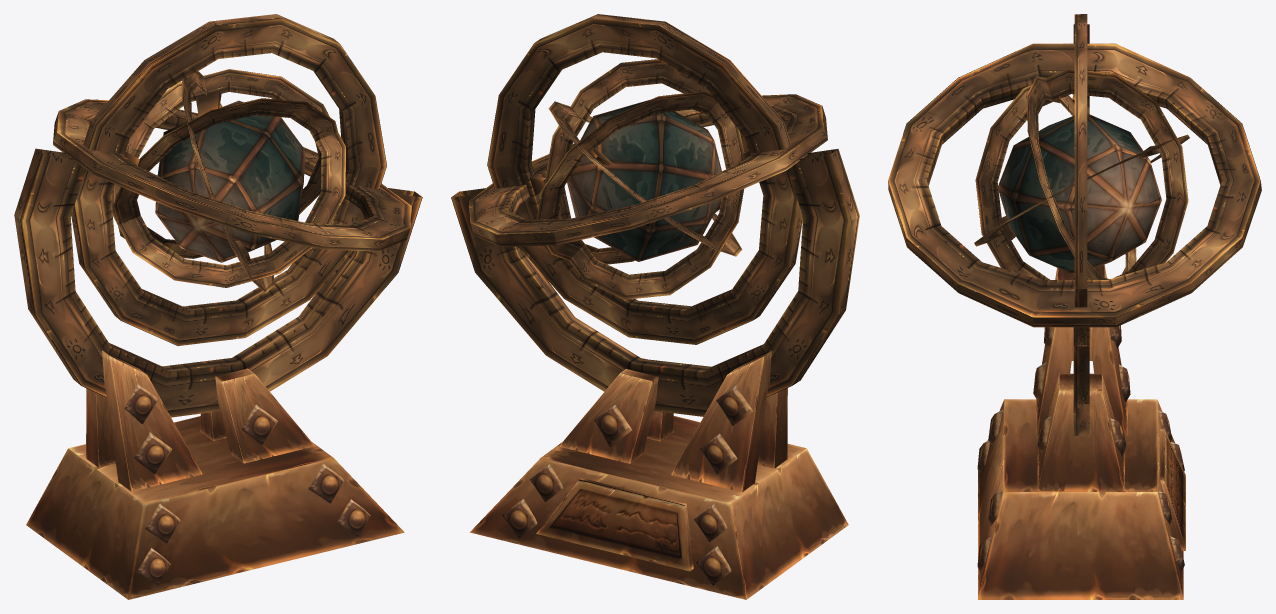
File: dwarvenglobe01.obj
3 renders of one model, left to right at view 1: azimuth 30°, elevation 25°; view 2: azimuth 150°, elevation 25°; view 3: azimuth 270°, elevation 25°, orthographic.
Visible parts, largest first — view 1: dwarvenglobe01; view 2: dwarvenglobe01; view 3: dwarvenglobe01.
Boxes of the visible parts, x1,y1,x2,y2 form: dwarvenglobe01: [14, 14, 422, 599]; dwarvenglobe01: [451, 14, 859, 599]; dwarvenglobe01: [888, 14, 1261, 599].
Size of the model in its own units: 4.43 by 5.34 by 3.56.
Materials: 1 (1 with a texture image).
